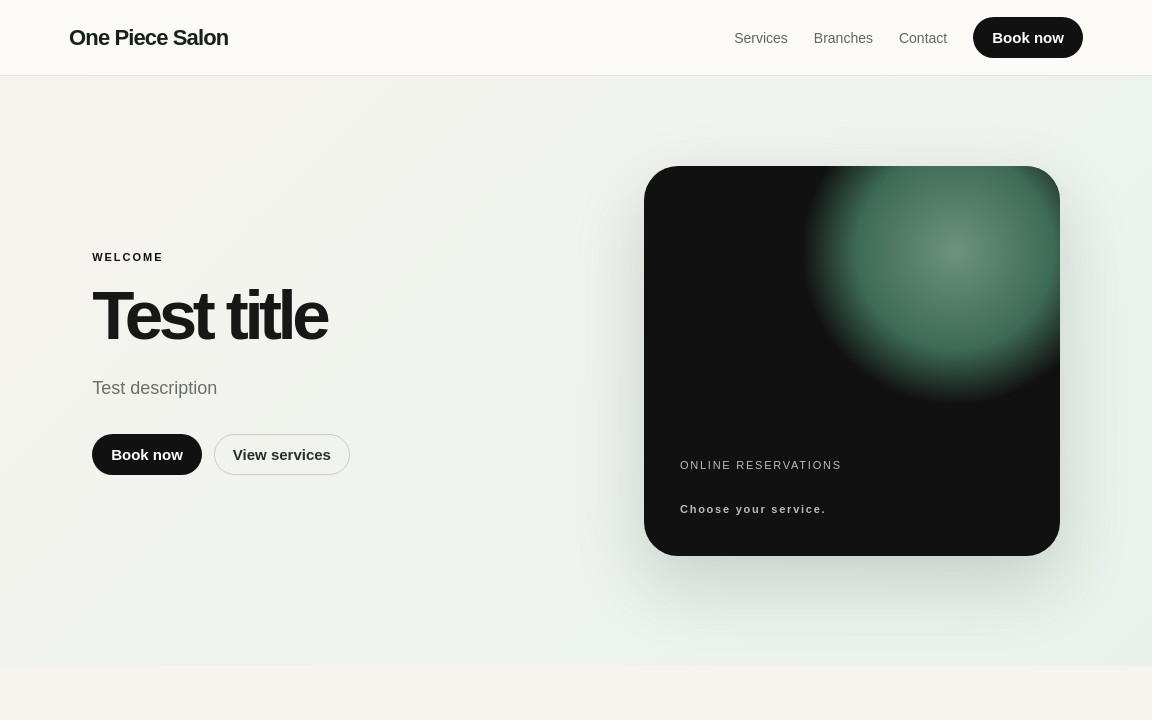
Test: ClientLandingPage › opens the booking modal when the CTA mode is modal
Expected: the heading "Test title" is shown, [92, 276, 326, 354]
Click the button "Book now" next to "Contact" at (1028, 38), box [973, 17, 1083, 58]
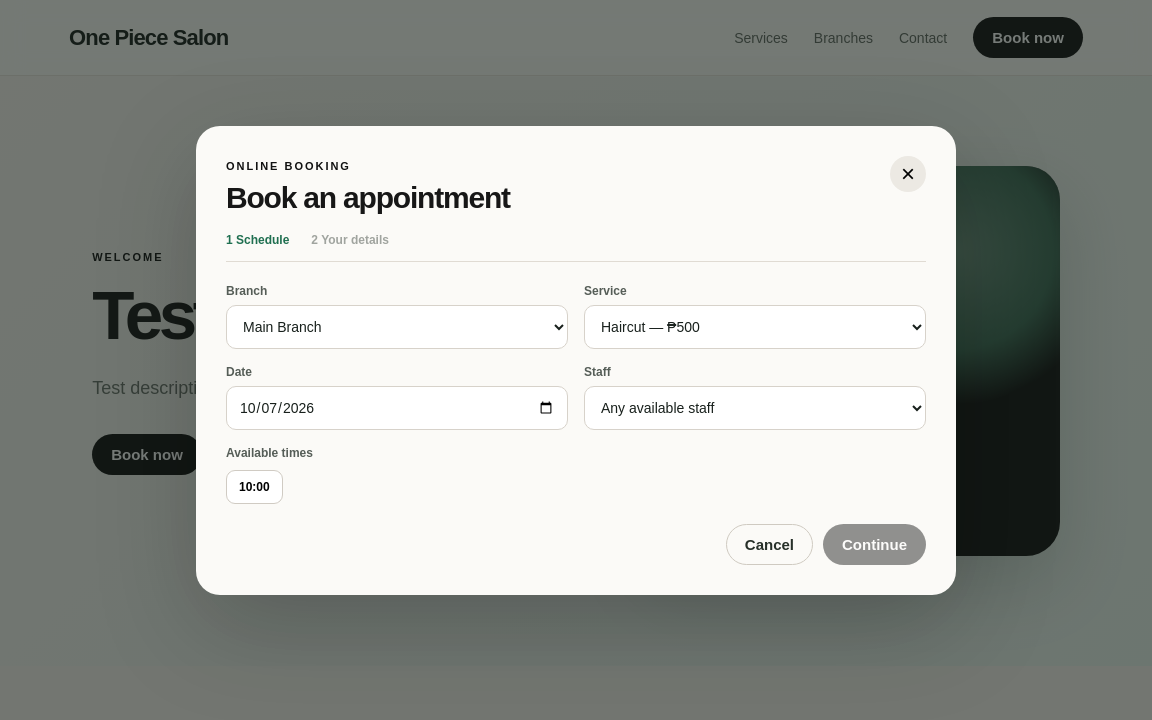
Now the dialog "Book an appointment" is shown, box [196, 126, 956, 594]
Now the text "1 Schedule" is shown, box [226, 232, 289, 246]
Now the button "10:00" is shown, box [226, 470, 283, 504]
